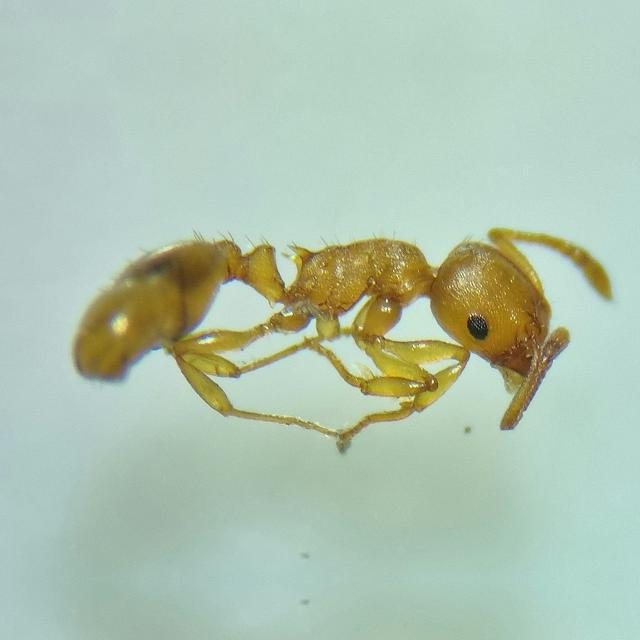Temnothorax: (47, 181, 623, 451)
